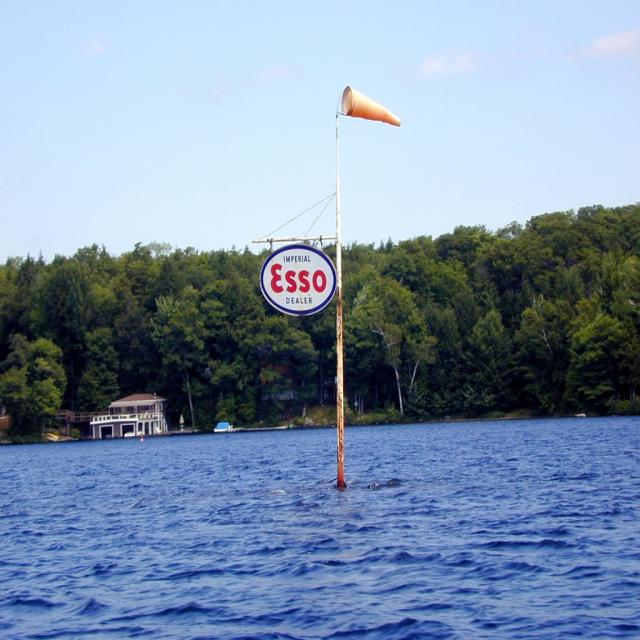esso: (260, 243, 341, 318)
